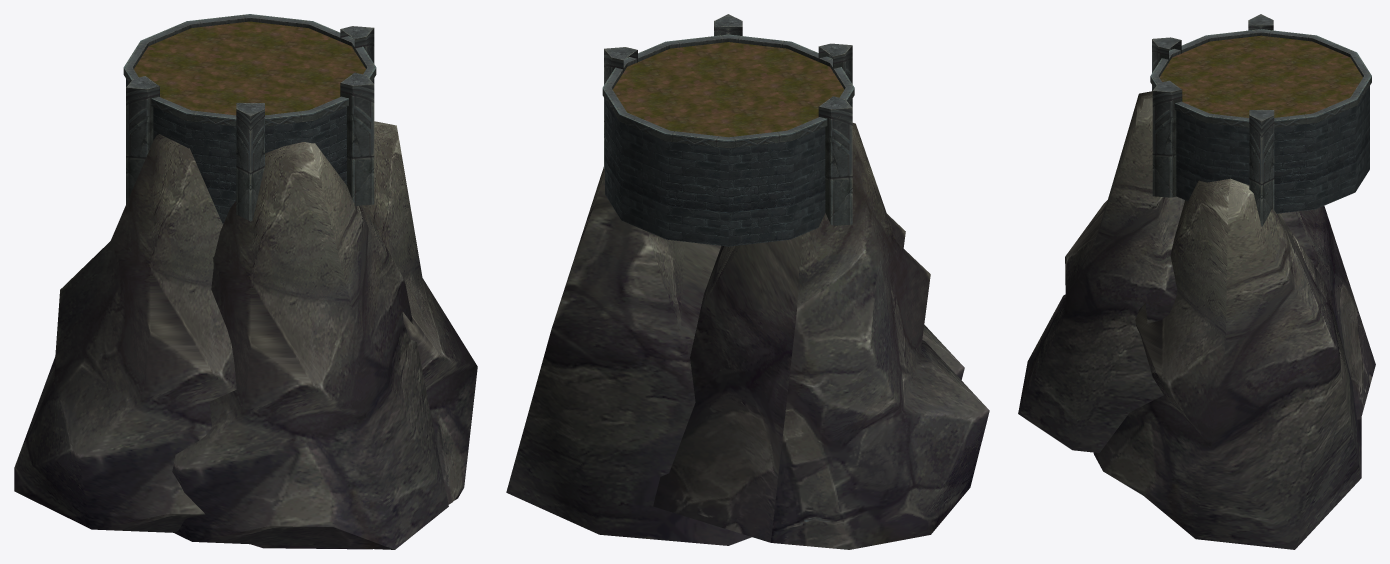
Rendered from jingjichangpaiming_zhujue.FBX.
3 renders of one model, left to right at view 1: azimuth 30°, elevation 25°; view 2: azimuth 150°, elevation 25°; view 3: azimuth 270°, elevation 25°, orthographic. The views are drawn at different scales.
Visible parts, largest first — view 1: jingjichangpaiming_zhujue; view 2: jingjichangpaiming_zhujue; view 3: jingjichangpaiming_zhujue.
Part boxes in pixels (x1,y1,x2,y2): jingjichangpaiming_zhujue: (14,14,477,549); jingjichangpaiming_zhujue: (506,14,989,549); jingjichangpaiming_zhujue: (1018,14,1375,549).
Size of the model in its own units: 8.36 by 6.99 by 8.66.
